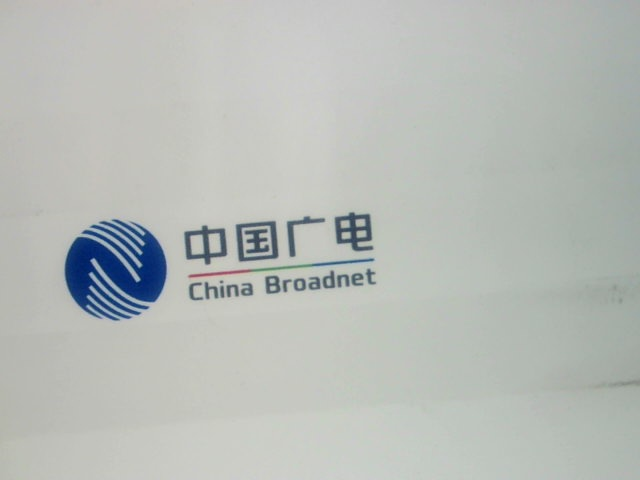AW_ChinaBroadNet: (60, 211, 388, 323)
